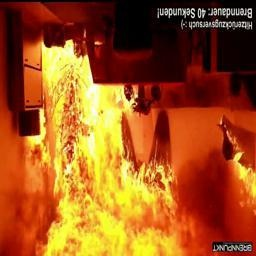fire: (10, 76, 248, 255)
